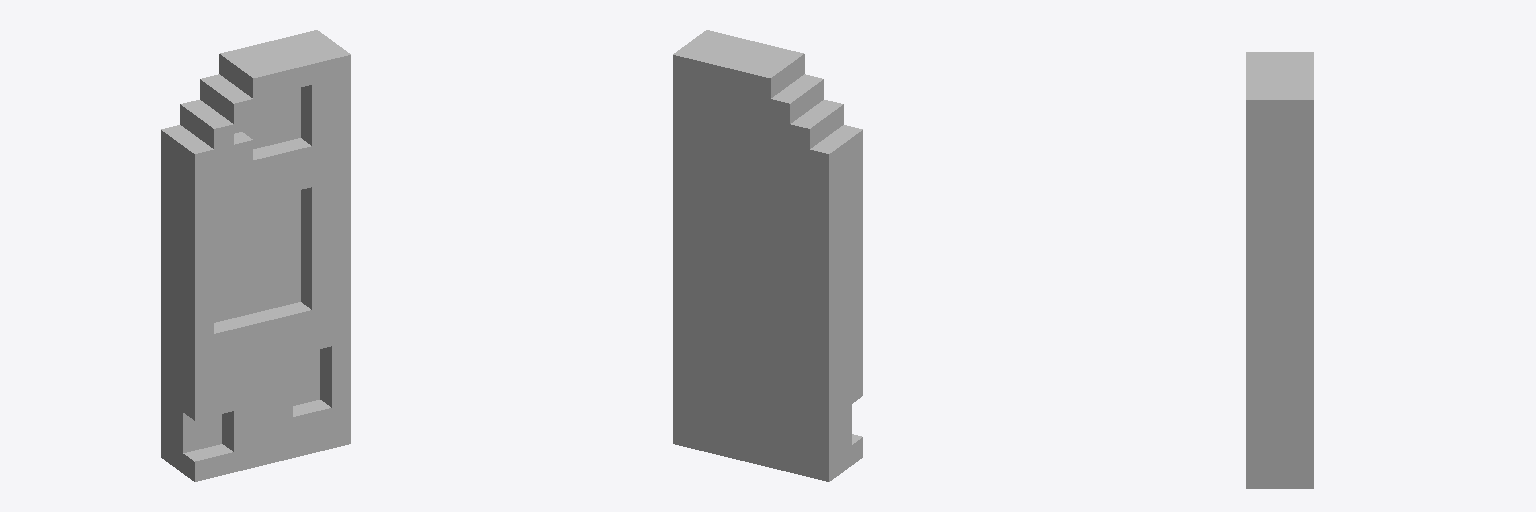
File: lado do portal.obj
3 views of the same model, side by side, from view 1: azimuth 30°, elevation 25°; view 2: azimuth 150°, elevation 25°; view 3: azimuth 270°, elevation 25° (orthographic).
Parts seen in each view (by area): view 1: object 1; view 2: object 1; view 3: object 1.
Boxes of the visible parts, x1,y1,x2,y2 form: object 1: [161, 30, 350, 481]; object 1: [673, 30, 862, 481]; object 1: [1246, 52, 1313, 488].
Size of the model in its own units: 0.8 by 1.9 by 0.3.